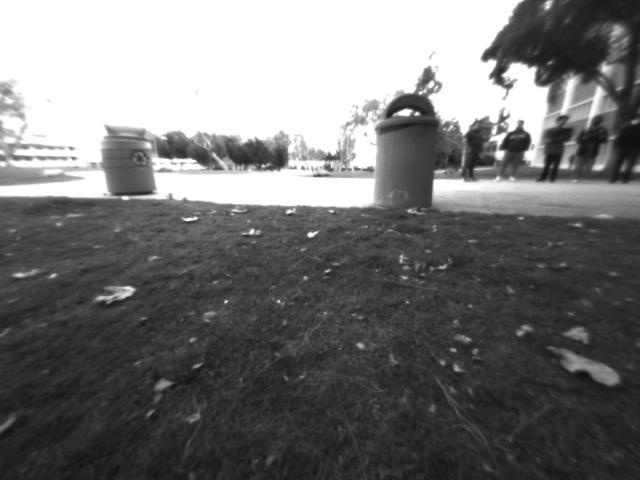trashcan: (361, 83, 456, 220)
